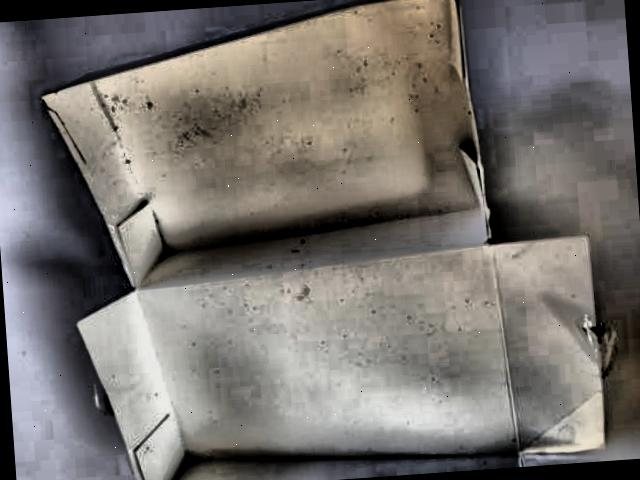Paper: (33, 0, 497, 287), (92, 235, 634, 480)
